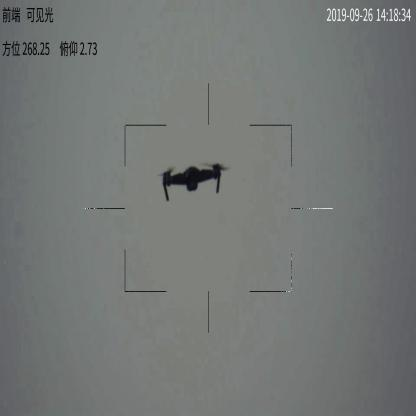uav: (145, 158, 233, 204)
